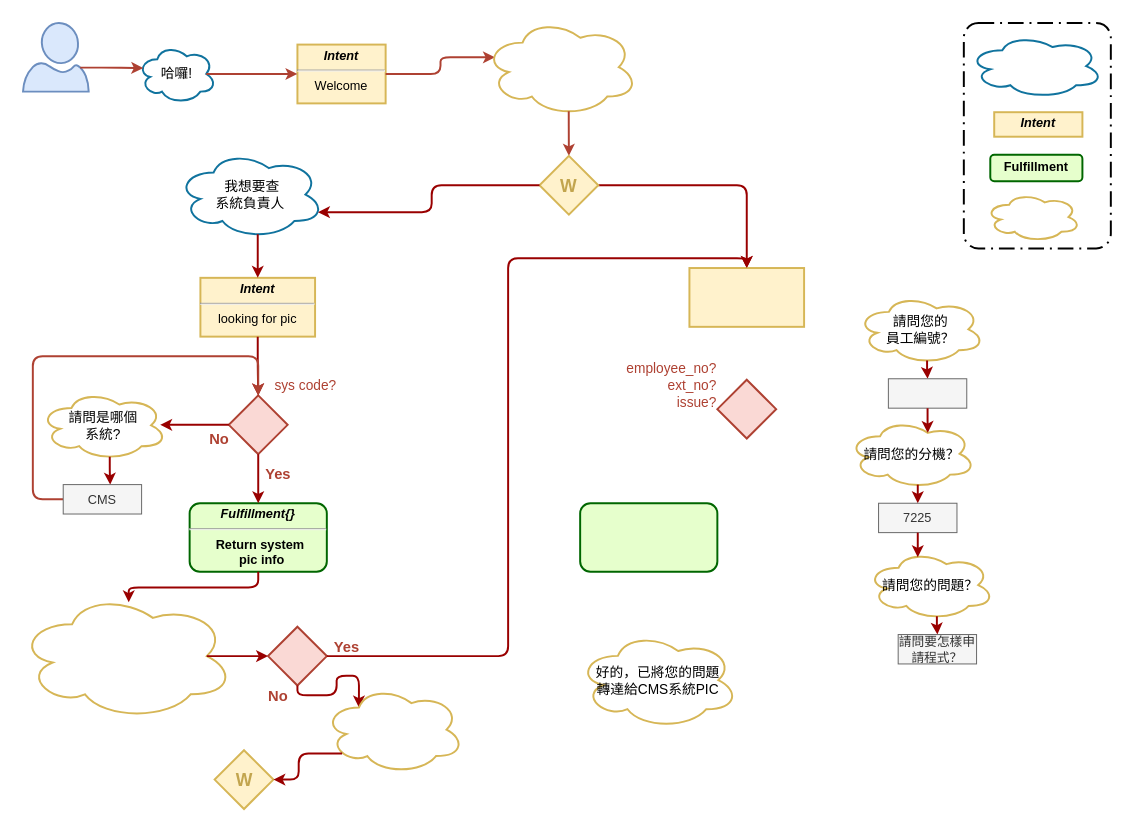
The diagram is 1128 pixels wide and 826 high, and some of its shapes have lost their labels. The shapes that lost their labels are listed below. From the top down, each one's box as (x1, y1, x2, y2) in pixels, then its label:
(483, 17, 638, 117): 您好，我可以幫您 查詢系統負責人
(967, 33, 1103, 98): user utterance
(984, 191, 1081, 242): Response
(688, 267, 805, 327): Intent forward_issue
(887, 378, 967, 408): M1933
(579, 502, 718, 572): Fulfillment{} forwarding the issue to pic
(17, 591, 234, 720): CMS系統負責則人是： GRACE LIU ALLEN YU 請問是否幫您將問題轉給 系統負責人？
(322, 684, 465, 774): 好的！希望再次 為您服務
